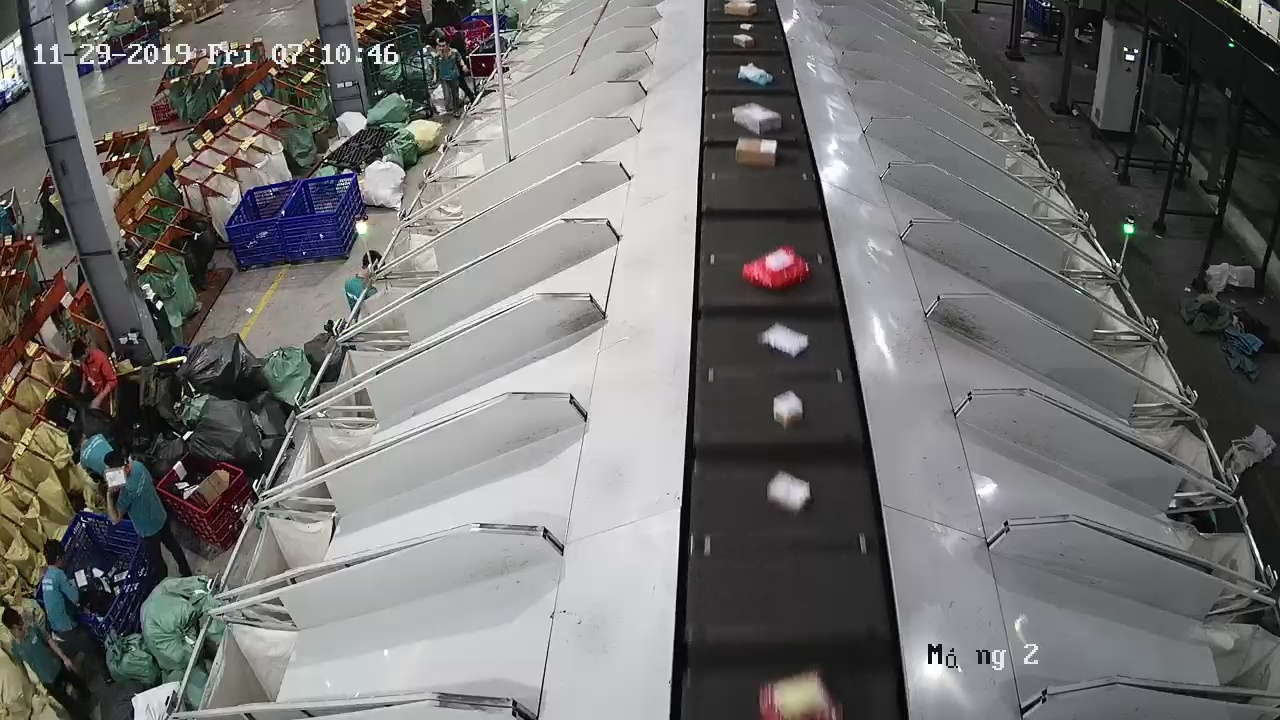parcel: (742, 246, 810, 289), (767, 470, 811, 516), (761, 322, 809, 359), (734, 136, 778, 167), (773, 390, 803, 429)
